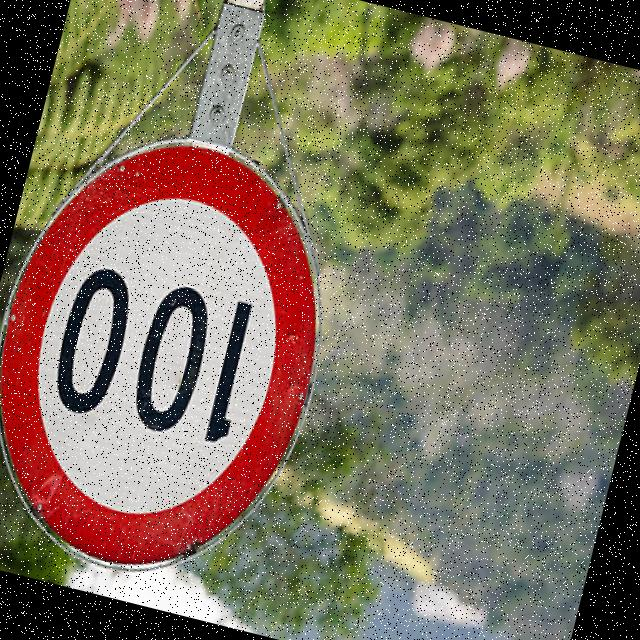speed_limit_100: (0, 102, 362, 622)
